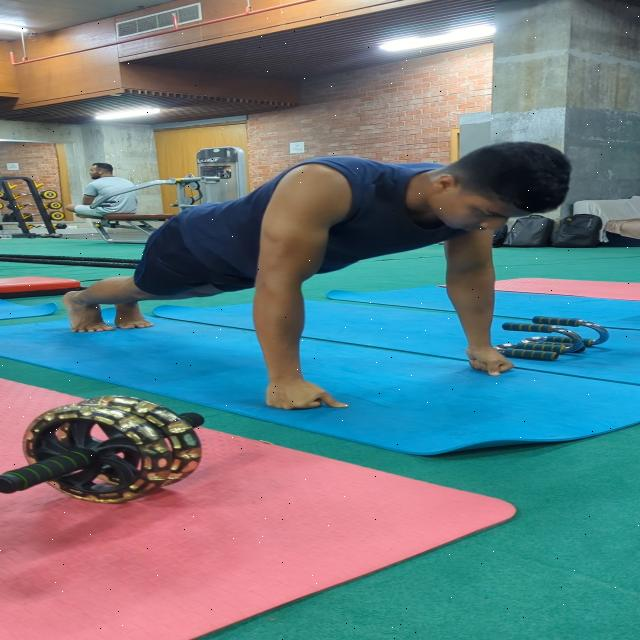Normal_PushUps: (65, 138, 584, 412)
